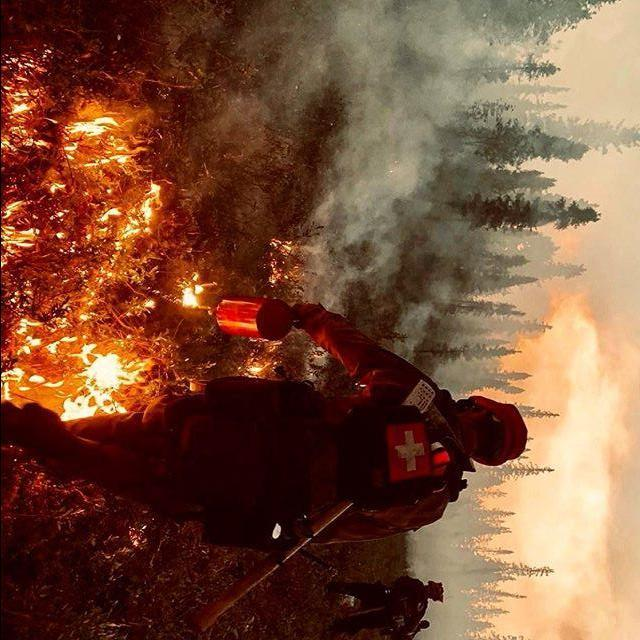Fire: (4, 319, 154, 428), (97, 181, 170, 242), (66, 115, 129, 165), (243, 356, 275, 379), (183, 281, 206, 310)
